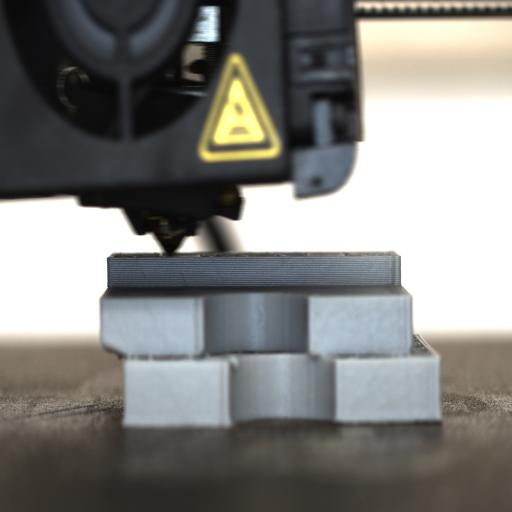layer_shift: (102, 342, 442, 366)
